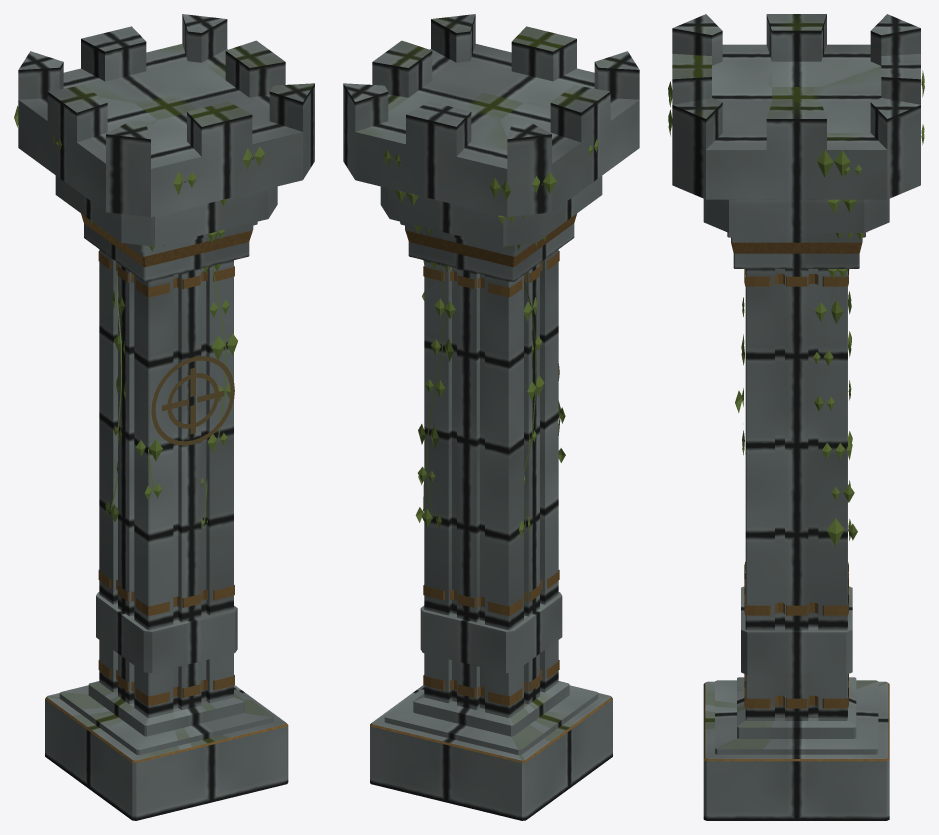
The model's file is FortressPillar.fbx.
The picture shows the model from 3 angles, left to right: view 1: azimuth 30°, elevation 25°; view 2: azimuth 150°, elevation 25°; view 3: azimuth 270°, elevation 25°; orthographic projection. The views are drawn at different scales.
Visible parts, largest first — view 1: FortressPillar.003; view 2: FortressPillar.003; view 3: FortressPillar.003.
Boxes of the visible parts, box(x1,y1,x2,y2) form: FortressPillar.003: box(14, 14, 314, 820); FortressPillar.003: box(343, 14, 639, 820); FortressPillar.003: box(668, 14, 924, 820).
Bounding box in the file's own units: 11.96 × 36.48 × 11.87.
4 materials, 3 textured.
